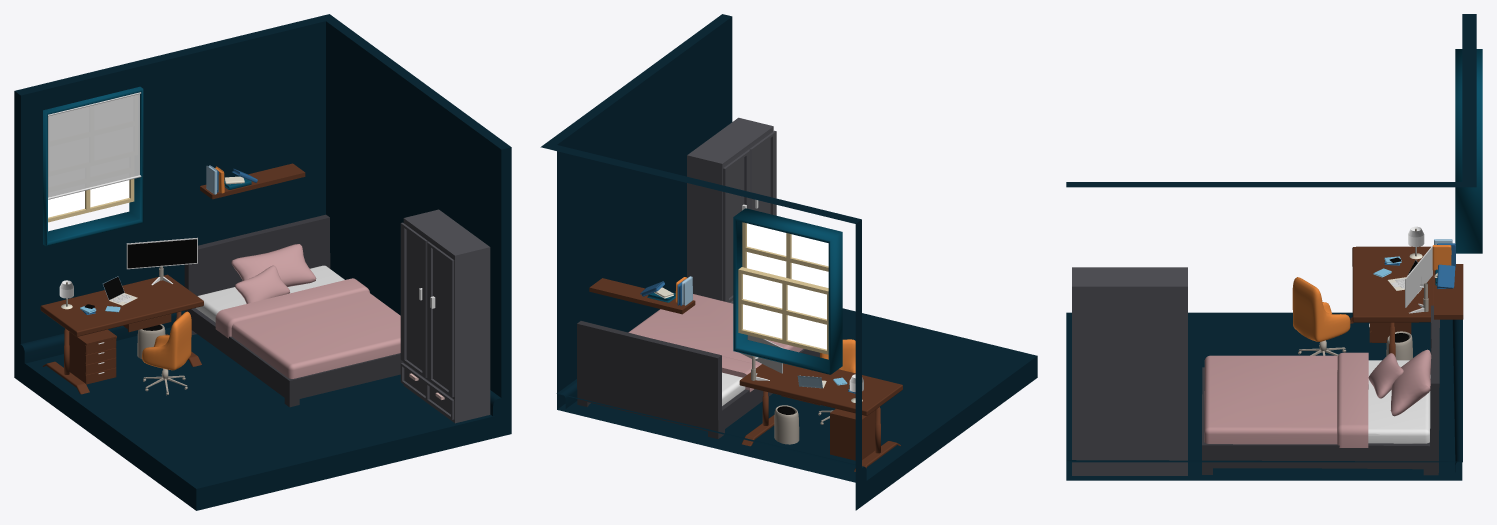
Rendered from room2.glb.
3 renders of one model, left to right at view 1: azimuth 30°, elevation 25°; view 2: azimuth 150°, elevation 25°; view 3: azimuth 270°, elevation 25°, orthographic. The views are drawn at different scales.
Parts seen in each view (by area): view 1: Wall, Walldrobe, Sheet, Curtain, TopLeg, TableSurface, BottomLeg, Frame, Slide Window 1, pillow, Screen.001, ChairSeat (+7 smaller); view 2: Wall, TopLeg, Walldrobe, Slide Window 1, Frame, Sheet, TableSurface, Slide Window 2, FloorDrawer, Base, Baseboard, Trash Bin (+1 smaller); view 3: Walldrobe, Wall, Sheet, TableSurface, TopLeg, Frame, BottomLeg, Mattress, ChairSeat, Baseboard, pillow, Base (+4 smaller).
Part boxes in pixels (x1=…): Wall: x1=14, y1=14, x2=511, y2=510; Walldrobe: x1=400, y1=209, x2=490, y2=423; Sheet: x1=215, y1=278, x2=400, y2=378; Curtain: x1=48, y1=94, x2=139, y2=197; TopLeg: x1=184, y1=214, x2=330, y2=363; TableSurface: x1=40, y1=274, x2=203, y2=336; BottomLeg: x1=238, y1=343, x2=403, y2=407; Frame: x1=43, y1=86, x2=143, y2=246; Slide Window 1: x1=48, y1=179, x2=134, y2=222; pillow: x1=231, y1=244, x2=316, y2=286; Screen.001: x1=126, y1=237, x2=197, y2=269; ChairSeat: x1=142, y1=311, x2=191, y2=370; Wall: x1=540, y1=14, x2=1037, y2=510; TopLeg: x1=577, y1=321, x2=771, y2=438; Walldrobe: x1=687, y1=117, x2=776, y2=303; Slide Window 1: x1=738, y1=267, x2=828, y2=354; Frame: x1=733, y1=208, x2=842, y2=374; Sheet: x1=628, y1=294, x2=803, y2=391; TableSurface: x1=739, y1=363, x2=902, y2=415; Slide Window 2: x1=742, y1=222, x2=828, y2=287; FloorDrawer: x1=830, y1=409, x2=875, y2=460; Base: x1=589, y1=278, x2=695, y2=314; Baseboard: x1=556, y1=379, x2=866, y2=484; Trash Bin: x1=774, y1=405, x2=799, y2=444; Walldrobe: x1=1072, y1=267, x2=1187, y2=475; Wall: x1=1066, y1=14, x2=1476, y2=480; Sheet: x1=1204, y1=352, x2=1368, y2=447; TableSurface: x1=1352, y1=246, x2=1433, y2=322; TopLeg: x1=1318, y1=305, x2=1439, y2=475; Frame: x1=1455, y1=49, x2=1482, y2=253; BottomLeg: x1=1202, y1=367, x2=1318, y2=474; Mattress: x1=1368, y1=360, x2=1430, y2=443; ChairSeat: x1=1292, y1=277, x2=1350, y2=341; Baseboard: x1=1066, y1=319, x2=1462, y2=471; pillow: x1=1390, y1=349, x2=1431, y2=416; Base: x1=1434, y1=264, x2=1463, y2=319.
Bounding box in the file's own units: 30.04 × 26.1 × 30.44.
